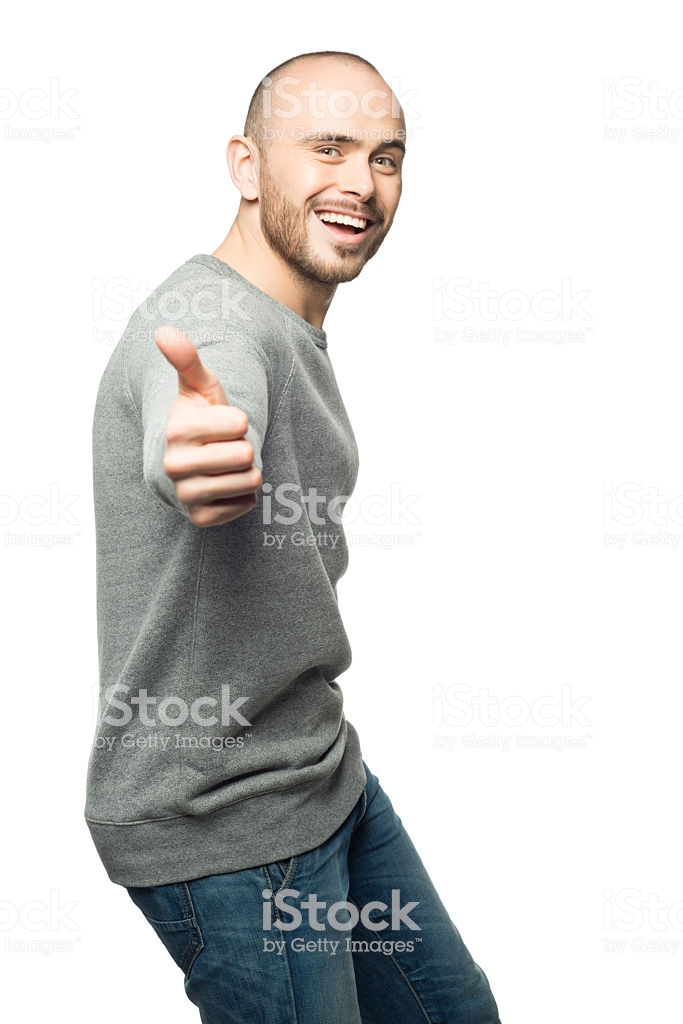thumbsup: (150, 323, 267, 530)
